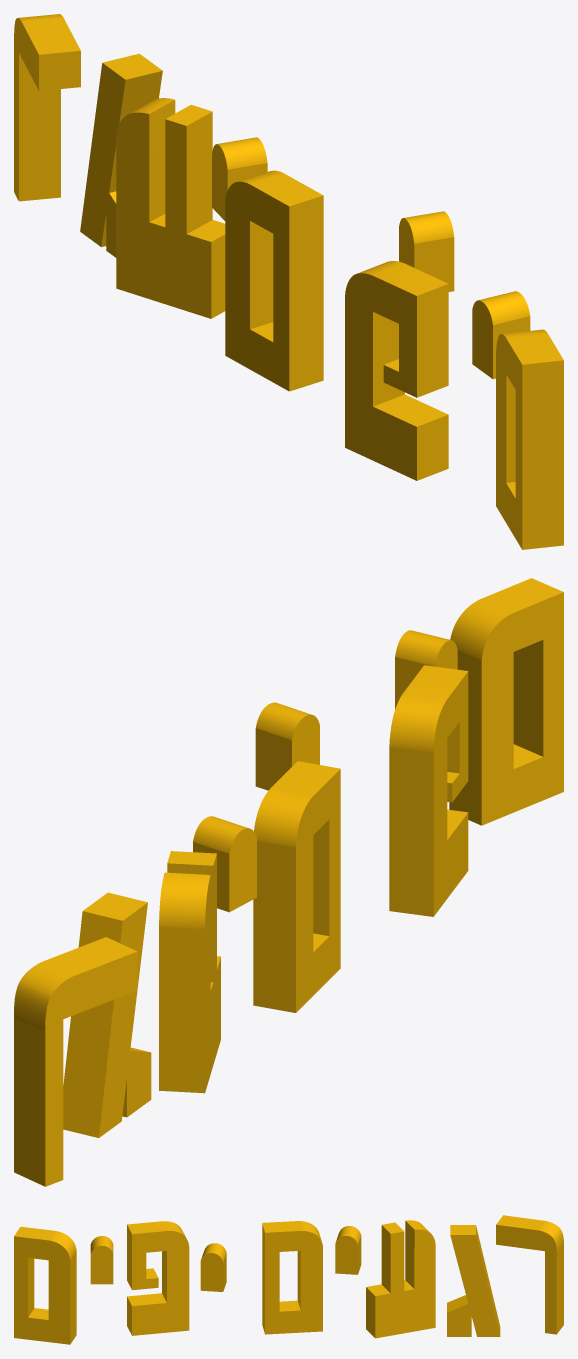
Rendered from text_moments_new.gltf.
The picture shows the model from 3 angles, top to bottom: view 1: azimuth 30°, elevation 25°; view 2: azimuth 150°, elevation 25°; view 3: azimuth 270°, elevation 25°; orthographic projection. The views are drawn at different scales.
Visible parts, largest first — view 1: Cap 1 (×8), נפח.5, נפח.1, נפח.3, נפח.9, נפח.7, נפח.4, נפח.8, נפח.2, נפח.6; view 2: Cap 1 (×8), נפח.5, נפח.3, נפח.7, נפח.1, נפח.9, נפח.8, נפח.4, נפח.6, נפח.2; view 3: Cap 2 (×9), נפח.7, נפח.1, נפח.3, נפח.9, נפח.5, נפח.8, נפח.4, נפח.6, נפח.2.
Boxes of the visible parts, <box> form: Cap 1 (×8): <box>14,18,522,549</box>; נפח.5: <box>237,170,323,391</box>; נפח.1: <box>502,329,563,549</box>; נפח.3: <box>357,261,448,480</box>; נפח.9: <box>19,14,80,201</box>; נפח.7: <box>129,98,225,318</box>; נפח.4: <box>404,211,454,291</box>; נפח.8: <box>101,53,162,246</box>; נפח.2: <box>479,291,530,379</box>; נפח.6: <box>217,137,267,189</box>; Cap 1 (×8): <box>45,592,563,1186</box>; נפח.5: <box>253,761,340,1012</box>; נפח.3: <box>389,665,467,916</box>; נפח.7: <box>159,851,220,1093</box>; נפח.1: <box>449,578,563,825</box>; נפח.9: <box>14,937,137,1186</box>; נפח.8: <box>63,892,149,1137</box>; נפח.4: <box>255,702,310,790</box>; נפח.6: <box>193,816,248,911</box>; נפח.2: <box>395,630,449,709</box>; Cap 2 (×9): <box>14,1224,556,1344</box>; נפח.7: <box>366,1220,428,1337</box>; נפח.1: <box>14,1226,76,1343</box>; נפח.3: <box>127,1221,185,1334</box>; נפח.9: <box>496,1215,563,1334</box>; נפח.5: <box>262,1221,321,1333</box>; נפח.8: <box>447,1225,500,1335</box>; נפח.4: <box>201,1243,226,1290</box>; נפח.6: <box>336,1226,361,1273</box>; נפח.2: <box>90,1236,113,1253</box>.
Size of the model in its own units: 195 by 239 by 1163.
